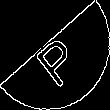P_NW: (27, 23, 83, 87)
